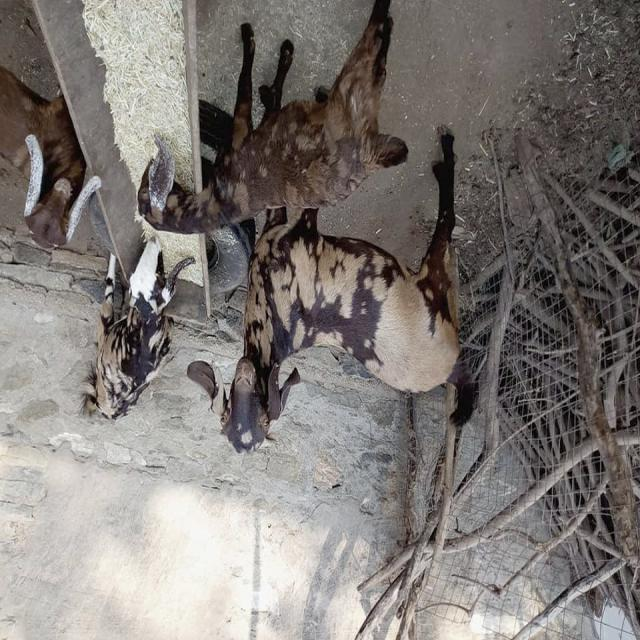Goat: (187, 127, 480, 457), (138, 2, 410, 236), (77, 236, 196, 423), (1, 66, 103, 252)
